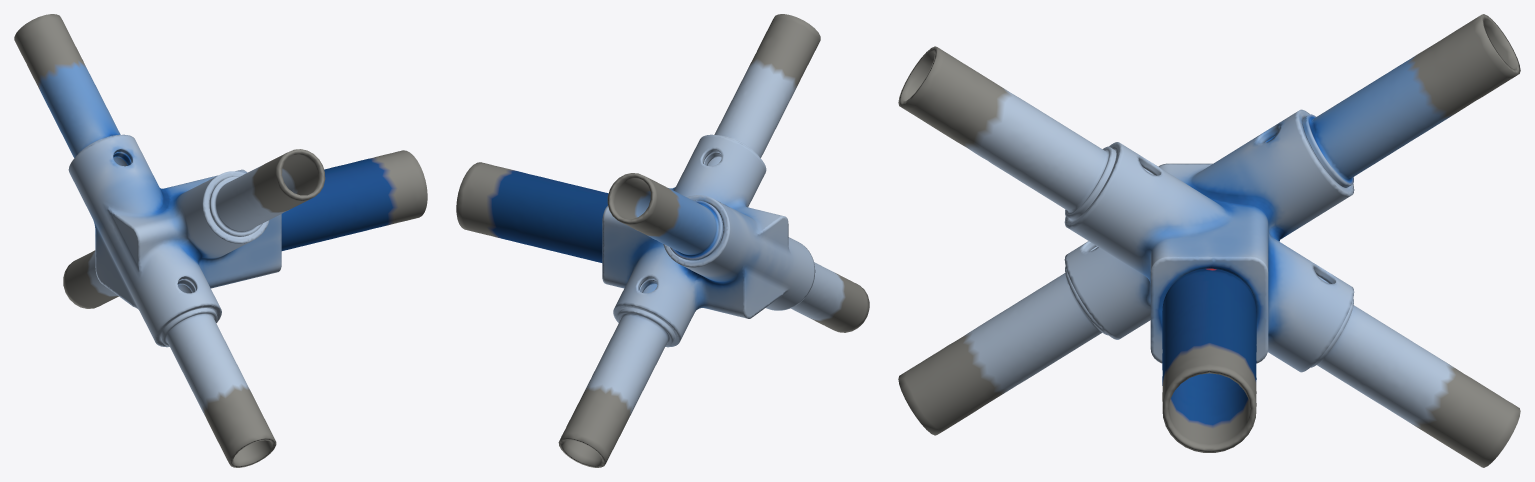
The model's file is hub_S2.glb.
3 views of the same model, side by side, from view 1: azimuth 30°, elevation 25°; view 2: azimuth 150°, elevation 25°; view 3: azimuth 270°, elevation 25° (orthographic). The views are drawn at different scales.
Parts seen in each view (by area): view 1: hub (printed PETG), arm tube A (UR, LL), bridge tube, arm tube B (LR, UL); view 2: hub (printed PETG), arm tube B (LR, UL), bridge tube, arm tube A (UR, LL); view 3: hub (printed PETG), arm tube B (LR, UL), arm tube A (UR, LL), bridge tube.
Part boxes in pixels (x1,y1,x2,y2): hub (printed PETG): (68,134,281,347); arm tube A (UR, LL): (14,14,276,467); bridge tube: (281,150,427,250); arm tube B (LR, UL): (63,149,325,308); hub (printed PETG): (602,134,815,347); arm tube B (LR, UL): (558,14,820,467); bridge tube: (456,162,608,262); arm tube A (UR, LL): (607,173,869,332); hub (printed PETG): (1064,109,1354,372); arm tube B (LR, UL): (898,46,1520,467); arm tube A (UR, LL): (898,14,1520,435); bridge tube: (1162,268,1256,452).
Bounding box in the file's own units: 0.079 × 0.0777 × 0.1058.
